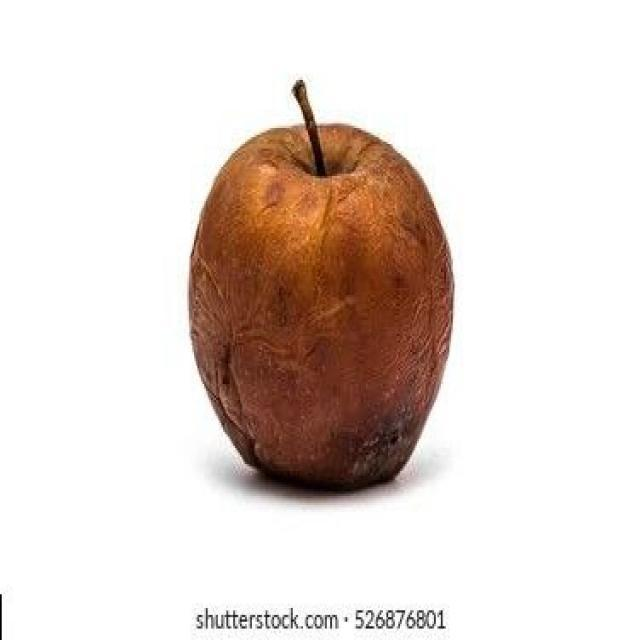Rotten: (188, 137, 455, 490)
